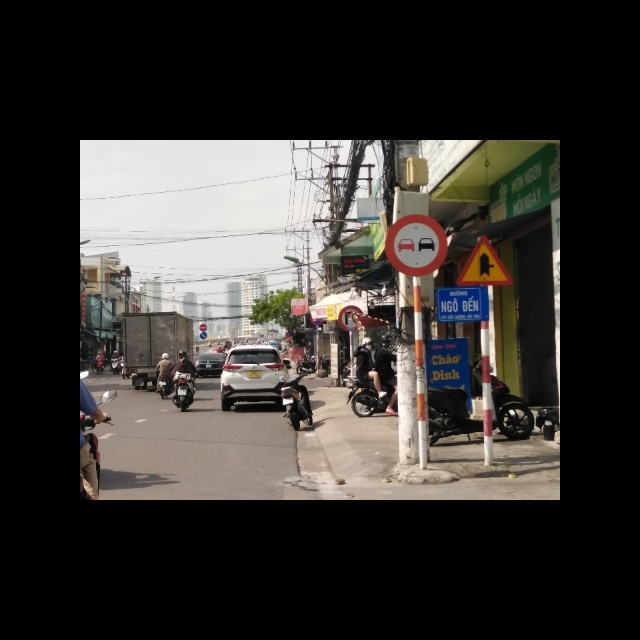Cấm vượt: (386, 214, 448, 278)
Giao nhau với đường không ưu tiên: (455, 233, 514, 286)
